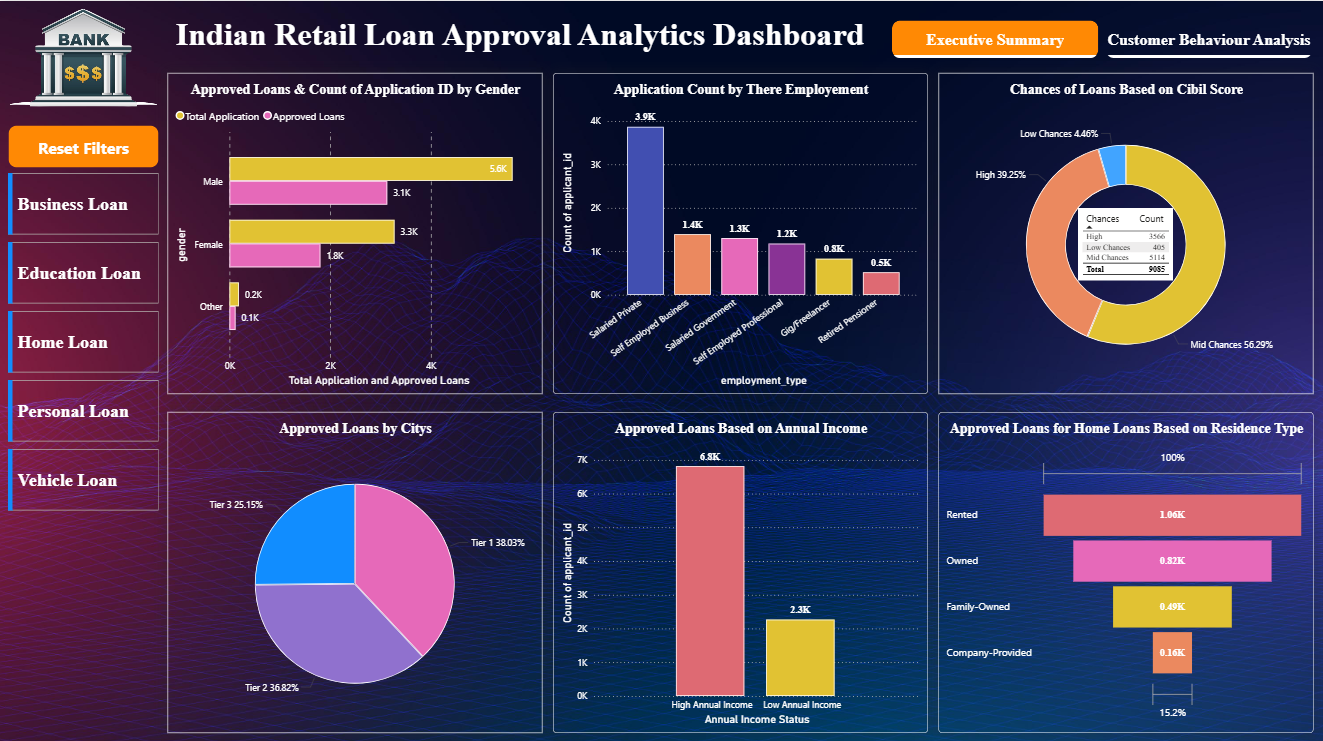

The page's visual inventory and layout, read from the dashboard file:
{"tool":"powerbi","page":{"name":"Customer Behaviour Analysis","canvas":[1770,1000],"ordinal":1},"visuals":[{"type":"textbox","box":[226,0,940,96],"z":0},{"type":"clusteredBarChart","title":"Approved Loans & Count of Application ID by Gender","fields":{"Y":["Loan_approval_dataset (1) csv.Total Application","Loan_approval_dataset (1) csv.Approved Loans"],"Category":["Loan_approval_dataset (1) csv.gender"]},"box":[226,96,500,428],"z":1000},{"type":"columnChart","title":"Application Count by There Employement","fields":{"Category":["Loan_approval_dataset (1) csv.employment_type"],"Y":["CountNonNull(Loan_approval_dataset (1) csv.applicant_id)"]},"box":[740,96,500,428],"z":2000},{"type":"donutChart","title":"Chances of Loans Based on Cibil Score","fields":{"Y":["CountNonNull(Loan_approval_dataset (1) csv.Approval Chances Based On CS)"],"Category":["Loan_approval_dataset (1) csv.Approval Chances Based On CS"]},"box":[1254,96,500,428],"z":5000},{"type":"image","box":[8,0,212,150],"z":6000},{"type":"actionButton","box":[14,166,200,56],"z":7000},{"type":"tableEx","fields":{"Values":["Loan_approval_dataset (1) csv.Approval Chances Based On CS","CountNonNull(Loan_approval_dataset (1) csv.cibil_score)"]},"box":[1440,276.7,126.7,96.7],"z":8000},{"type":"pieChart","title":"Approved Loans by Citys","fields":{"Category":["Loan_approval_dataset (1) csv.city_tier"],"Y":["CountNonNull(Loan_approval_dataset (1) csv.applicant_id)"]},"box":[226,548,500,428],"z":9000},{"type":"columnChart","title":"Approved Loans Based on Annual Income","fields":{"Category":["Loan_approval_dataset (1) csv.Annual Income Status"],"Y":["CountNonNull(Loan_approval_dataset (1) csv.applicant_id)"]},"box":[740,548,500,428],"z":10000},{"type":"funnel","title":"Approved Loans for Home Loans Based on Residence Type","fields":{"Category":["Loan_approval_dataset (1) csv.residence_type"],"Y":["CountNonNull(Loan_approval_dataset (1) csv.applicant_id)"]},"box":[1254,548,500,428],"z":11000},{"type":"advancedSlicerVisual","fields":{"Values":["Loan_approval_dataset (1) csv.loan_purpose"]},"box":[8.3,223.3,211.7,460],"z":11001},{"type":"pageNavigator","box":[1192,26,560,50],"z":11002}]}

Visuals, with their boxes in screenshot pixels (x1, y1, x2, y2), scaled from the page's 1770x1000 canvas onto the 1323x741 screenshot:
textbox: x1=169, y1=0, x2=872, y2=71
"Approved Loans & Count of Application ID by Gender" clusteredBarChart: x1=169, y1=71, x2=543, y2=388
"Application Count by There Employement" columnChart: x1=553, y1=71, x2=927, y2=388
"Chances of Loans Based on Cibil Score" donutChart: x1=937, y1=71, x2=1311, y2=388
image: x1=6, y1=0, x2=164, y2=111
actionButton: x1=10, y1=123, x2=160, y2=165
tableEx - Loan_approval_dataset (1) csv.Approval Chances Based On CS x CountNonNull(Loan_approval_dataset (1) csv.cibil_score): x1=1076, y1=205, x2=1171, y2=277
"Approved Loans by Citys" pieChart: x1=169, y1=406, x2=543, y2=723
"Approved Loans Based on Annual Income" columnChart: x1=553, y1=406, x2=927, y2=723
"Approved Loans for Home Loans Based on Residence Type" funnel: x1=937, y1=406, x2=1311, y2=723
advancedSlicerVisual - Loan_approval_dataset (1) csv.loan_purpose: x1=6, y1=165, x2=164, y2=506
pageNavigator: x1=891, y1=19, x2=1310, y2=56
